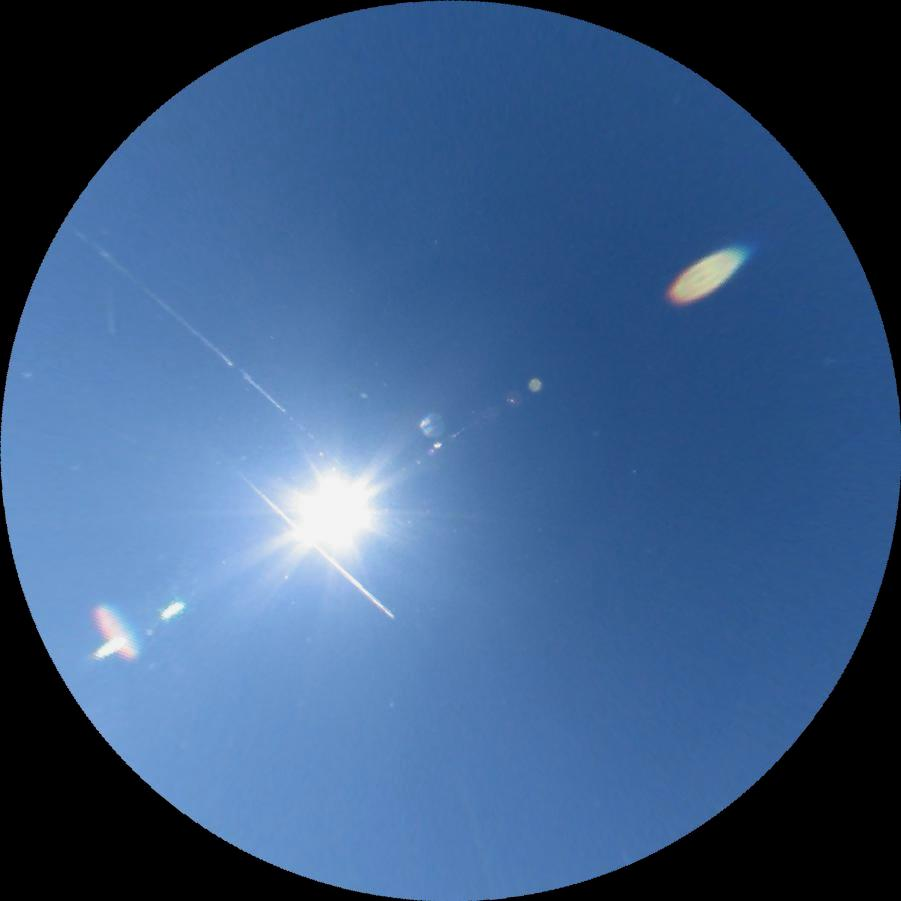contrail young: (230, 469, 395, 622), (107, 300, 116, 333)
parasite: (67, 219, 317, 438)
sun: (279, 448, 393, 562)
